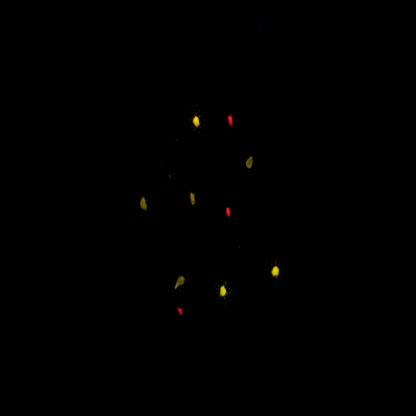PE: (189, 104, 207, 143), (217, 271, 235, 308), (268, 254, 285, 289)
PET: (223, 200, 237, 225), (226, 111, 238, 134), (175, 301, 187, 324)
PP: (134, 188, 155, 229), (243, 150, 259, 180), (171, 271, 190, 295), (185, 189, 199, 214)
